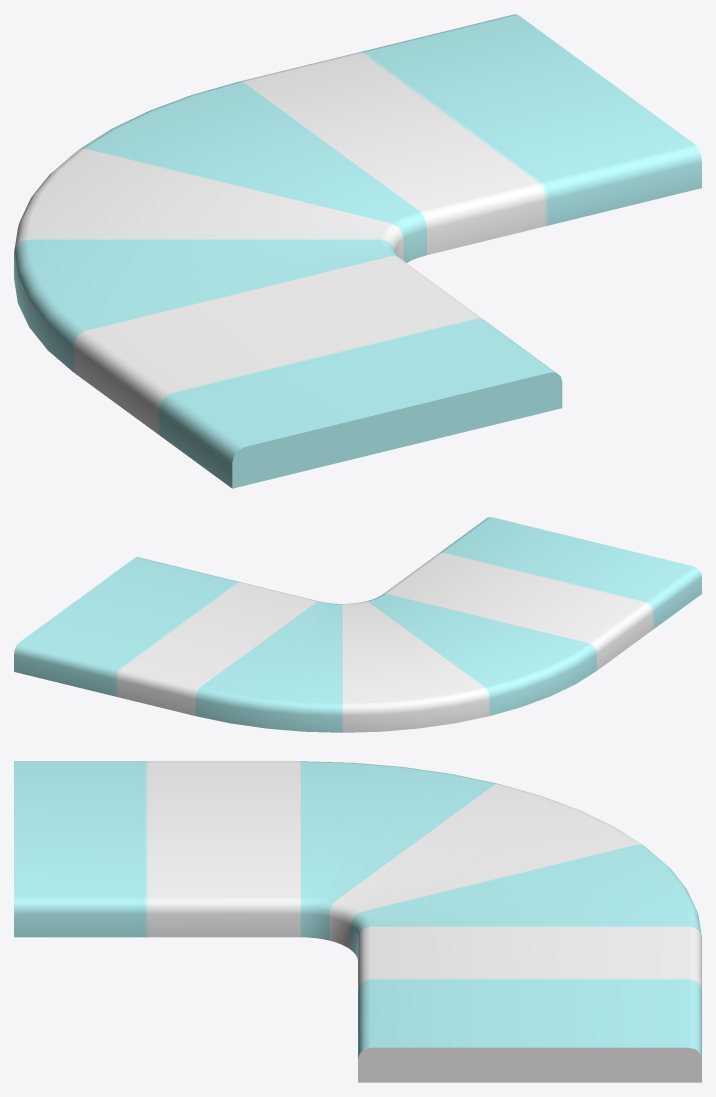
File: RoadTurn_blue.fbx
3 views of the same model, one above another, from view 1: azimuth 30°, elevation 25°; view 2: azimuth 150°, elevation 25°; view 3: azimuth 270°, elevation 25° (orthographic). The views are drawn at different scales.
Parts seen in each view (by area): view 1: RoadTurn; view 2: RoadTurn; view 3: RoadTurn.
Boxes of the visible parts, left/top/right/bottom form: RoadTurn: left=14, top=14, right=701, bottom=488; RoadTurn: left=14, top=517, right=701, bottom=732; RoadTurn: left=14, top=761, right=701, bottom=1082.
Bounding box in the file's own units: 600 × 33.61 × 600.
1 material, 1 textured.
